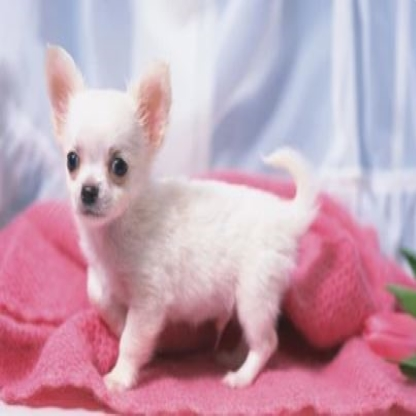chihuahua: (43, 41, 324, 385)
